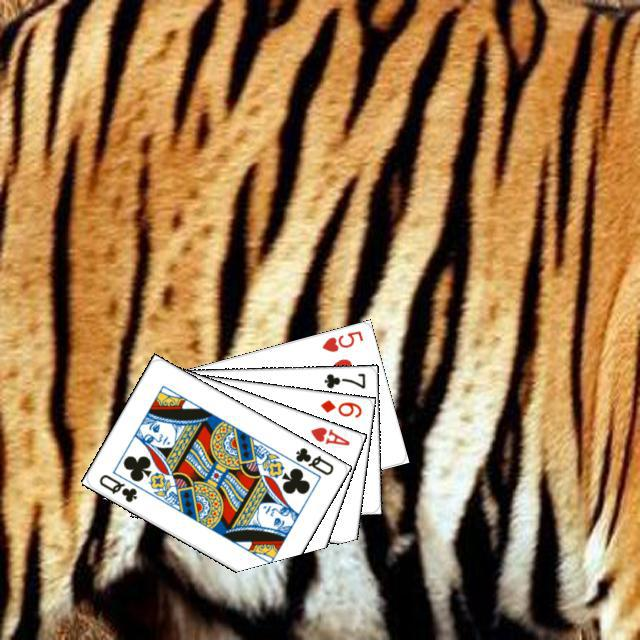5h: (317, 326, 365, 354)
6d: (315, 395, 363, 419)
7c: (319, 368, 367, 390)
Ah: (305, 422, 351, 447)
Qc: (282, 442, 335, 481), (94, 469, 139, 504)
